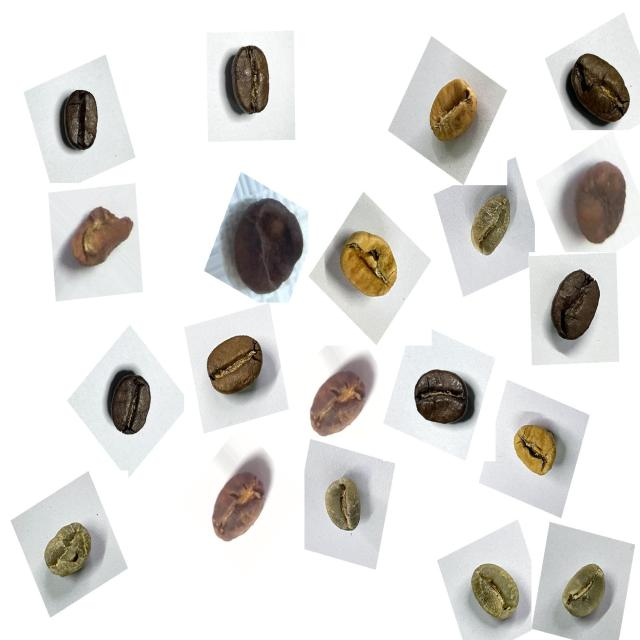bad: (220, 190, 312, 308), (566, 154, 638, 255), (201, 456, 275, 554), (306, 351, 379, 446), (61, 195, 138, 280)
dark: (541, 262, 614, 357), (406, 358, 480, 439), (99, 359, 166, 446), (50, 80, 113, 164)
green: (459, 553, 529, 636), (551, 552, 618, 636), (35, 511, 105, 591), (460, 185, 521, 268), (315, 467, 377, 543)
light: (329, 217, 407, 308), (418, 66, 485, 154), (507, 412, 570, 488)
medium: (559, 44, 639, 134), (196, 321, 273, 408)
